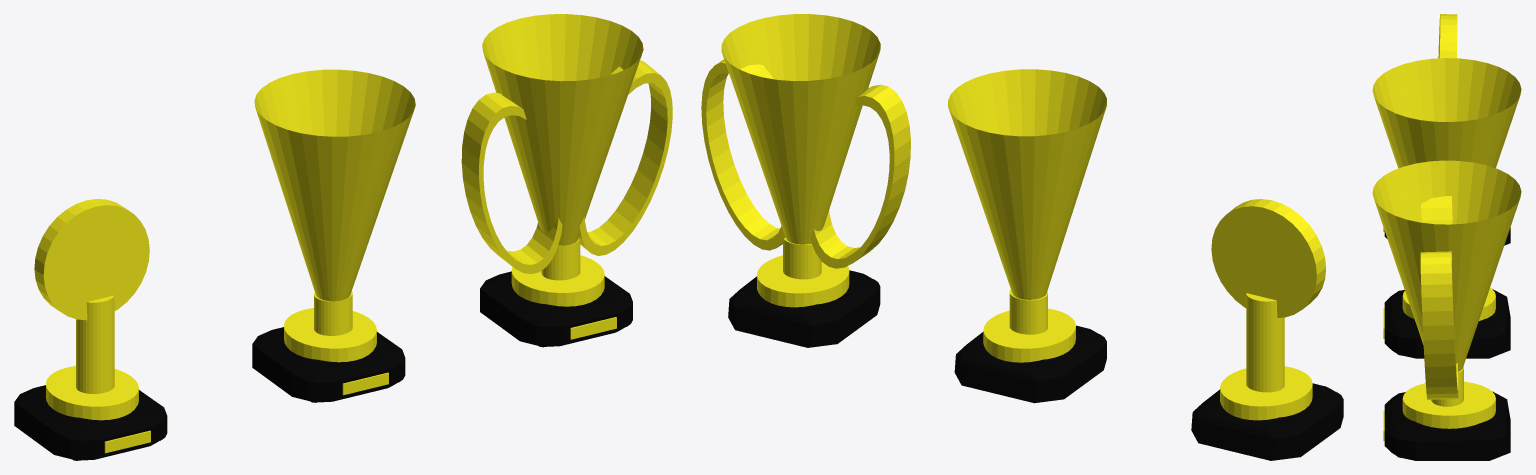
The model's file is PIALA.obj.
3 renders of one model, left to right at view 1: azimuth 30°, elevation 25°; view 2: azimuth 150°, elevation 25°; view 3: azimuth 270°, elevation 25°, orthographic. The views are drawn at different scales.
Parts seen in each view (by area): view 1: Cone, Cone.001_Cone.002, Cylinder.002_Cylinder.005, Cube, Cube.005, Cube.003, Cylinder.007_Cylinder.008, Cylinder.008_Cylinder.009, Cylinder.003, Cylinder, Cylinder.004, Cylinder.006_Cylinder.007 (+2 smaller); view 2: Cone, Cone.001_Cone.002, Cylinder.002_Cylinder.005, Cube.005, Cube.003, Cube, Cylinder.007_Cylinder.008, Cylinder.008_Cylinder.009, Cylinder.003, Cylinder.004, Cylinder, Cylinder.006_Cylinder.007 (+2 smaller); view 3: Cone.001_Cone.002, Cone, Cube.005, Cylinder.008_Cylinder.009, Cube, Cylinder.006_Cylinder.007, Cylinder.002_Cylinder.005, Cylinder.007_Cylinder.008, Cylinder, Cylinder.005_Cylinder.006.
Part boxes in pixels (box(x1,y1,x2,y2)): Cone: box(254, 69, 415, 301); Cone.001_Cone.002: box(482, 14, 643, 245); Cylinder.002_Cylinder.005: box(34, 199, 149, 320); Cube: box(252, 327, 405, 402); Cube.005: box(480, 271, 632, 347); Cube.003: box(14, 385, 167, 460); Cylinder.007_Cylinder.008: box(461, 92, 562, 274); Cylinder.008_Cylinder.009: box(578, 60, 672, 255); Cylinder.003: box(76, 295, 114, 393); Cylinder: box(284, 308, 376, 362); Cylinder.004: box(46, 366, 138, 420); Cylinder.006_Cylinder.007: box(511, 255, 604, 306); Cone: box(948, 69, 1106, 299); Cone.001_Cone.002: box(721, 14, 880, 244); Cylinder.002_Cylinder.005: box(1211, 199, 1325, 317); Cube.005: box(728, 270, 880, 347); Cube.003: box(1191, 383, 1343, 460); Cube: box(954, 325, 1106, 403); Cylinder.007_Cylinder.008: box(810, 84, 910, 268); Cylinder.008_Cylinder.009: box(701, 59, 785, 250); Cylinder.003: box(1246, 293, 1284, 392); Cylinder.004: box(1220, 366, 1312, 420); Cylinder: box(983, 308, 1075, 362); Cylinder.006_Cylinder.007: box(757, 255, 849, 307); Cone.001_Cone.002: box(1372, 160, 1521, 371); Cone: box(1372, 58, 1521, 168); Cube.005: box(1384, 391, 1510, 460); Cylinder.008_Cylinder.009: box(1420, 251, 1458, 399); Cube: box(1384, 289, 1510, 358); Cylinder.006_Cylinder.007: box(1402, 381, 1495, 428); Cylinder.002_Cylinder.005: box(1438, 14, 1457, 58); Cylinder.007_Cylinder.008: box(1421, 196, 1452, 224); Cylinder: box(1402, 287, 1495, 320); Cylinder.005_Cylinder.006: box(1431, 366, 1463, 406).
Bounding box in the file's own units: 1.46 × 0.6137 × 0.3289.
